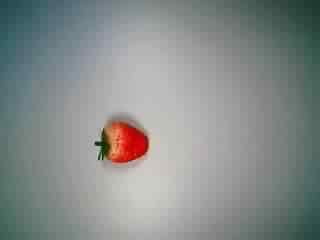strawberry: (87, 108, 155, 172)
